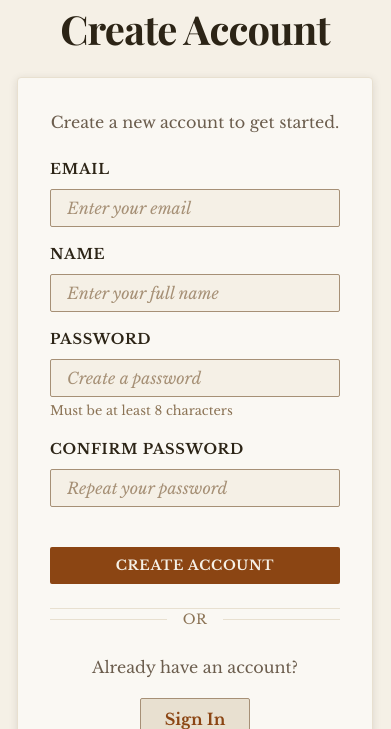
Test: Register › form validation › should show error when password is empty
The width and height of the screenshot is (391, 729).
Step 1. Type "test@example.com" into the field with id "email" → (195,208), box 50,189 -> 340,227
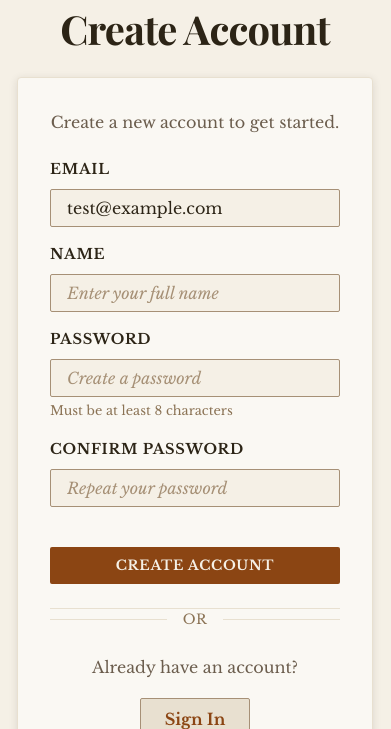
Step 2. Type "Test User" into the field with id "name" → (195,293), box 50,274 -> 340,312
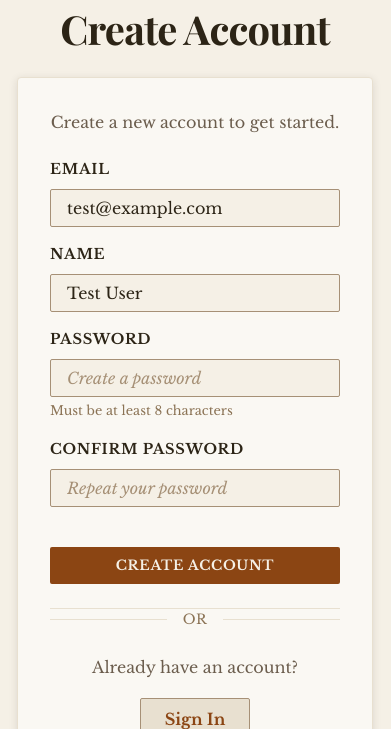
Step 3. Submit the form, box 50,158 -> 340,584
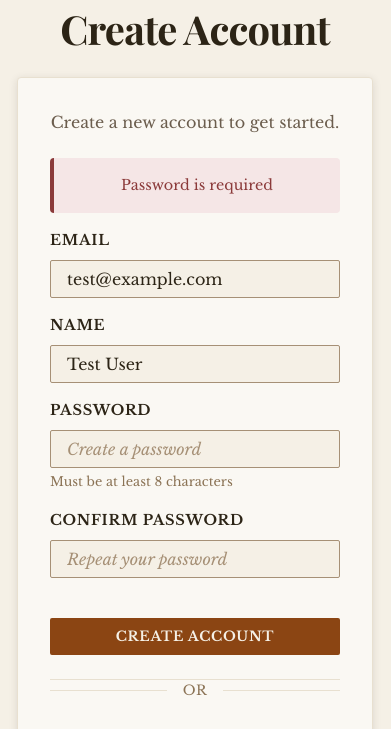
Expected: the text "Password is required" is shown, 50,158 -> 340,213
